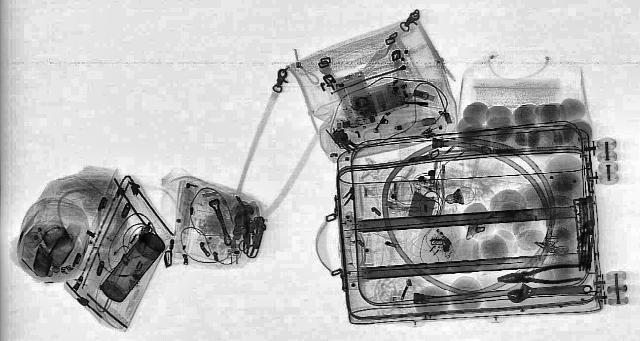Pliers: (494, 261, 588, 289)
Wrench: (502, 283, 596, 303)
